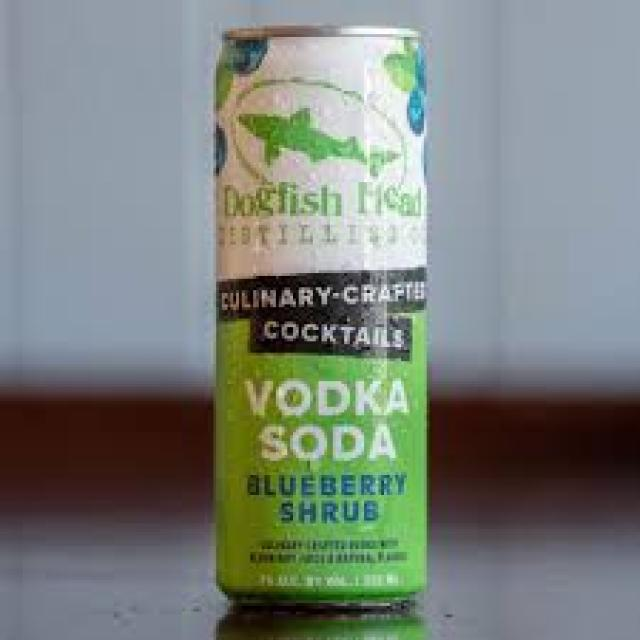Cans: (193, 11, 444, 618)
